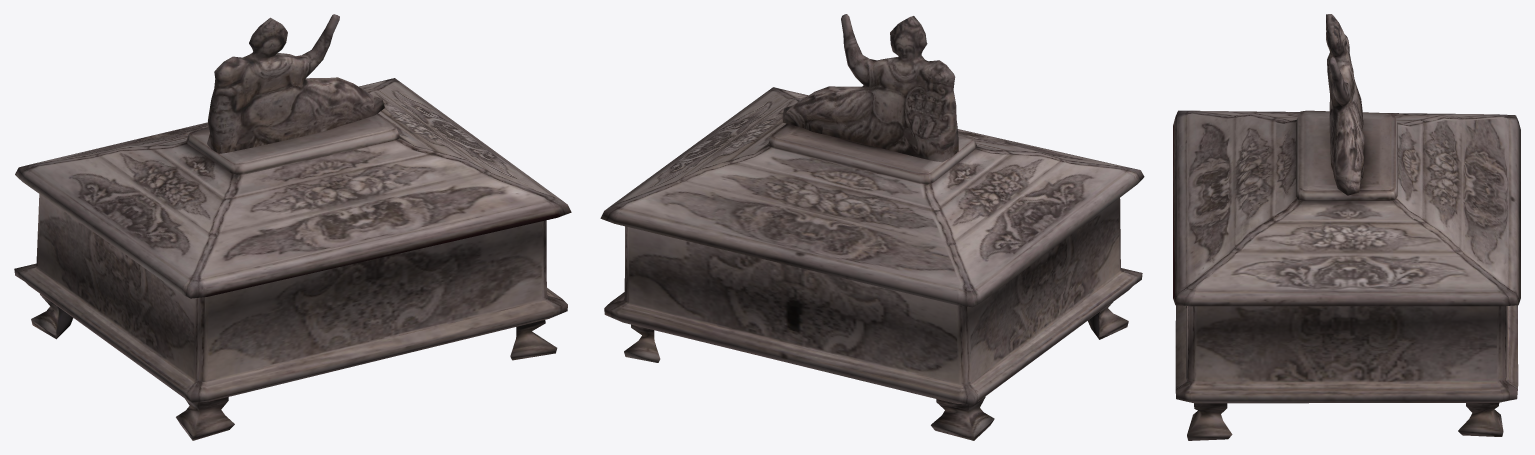
File: Jewel_Box.fbx
The picture shows the model from 3 angles, left to right: view 1: azimuth 30°, elevation 25°; view 2: azimuth 150°, elevation 25°; view 3: azimuth 270°, elevation 25°; orthographic projection. The views are drawn at different scales.
Parts seen in each view (by area): view 1: Jewel_Box; view 2: Jewel_Box; view 3: Jewel_Box.
Part boxes in pixels (left/top/right/bottom): Jewel_Box: left=14, top=14, right=571, bottom=440; Jewel_Box: left=600, top=14, right=1144, bottom=440; Jewel_Box: left=1173, top=14, right=1520, bottom=440.
Bounding box in the file's own units: 43.27 × 36.03 × 34.82.
Materials: 1 (1 with a texture image).
